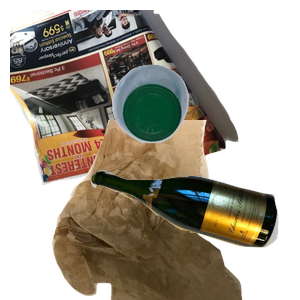glass: (88, 167, 300, 300)
paper: (10, 10, 241, 188)
plastic: (110, 62, 300, 198)
trash: (50, 120, 285, 300)
